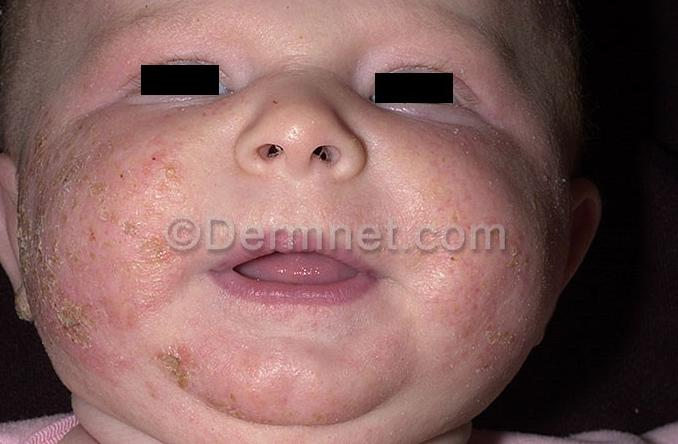eritema 1: (21, 134, 178, 381), (416, 136, 558, 374)
excoriacion 1: (27, 138, 182, 354)
exudacion 1: (479, 238, 535, 373)
exudacion 3: (15, 122, 193, 383)
